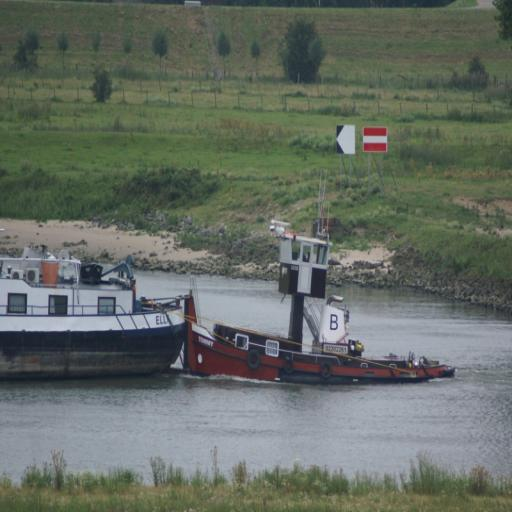tugboat: (181, 222, 460, 399)
